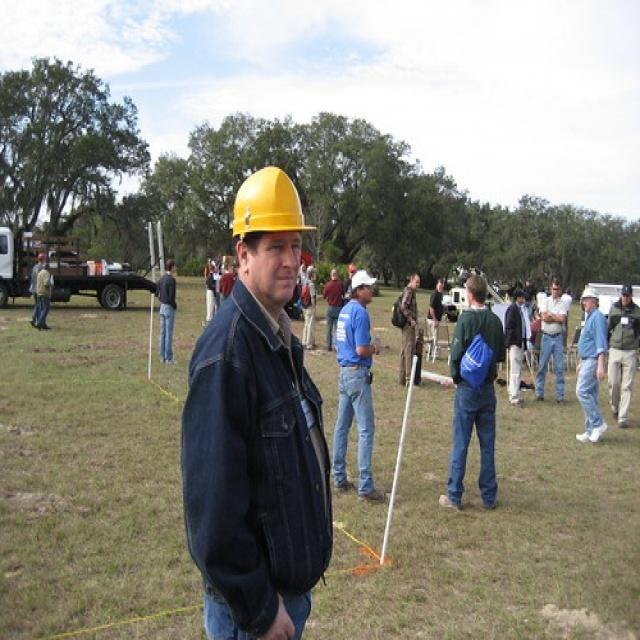helmet: (228, 224, 316, 313)
